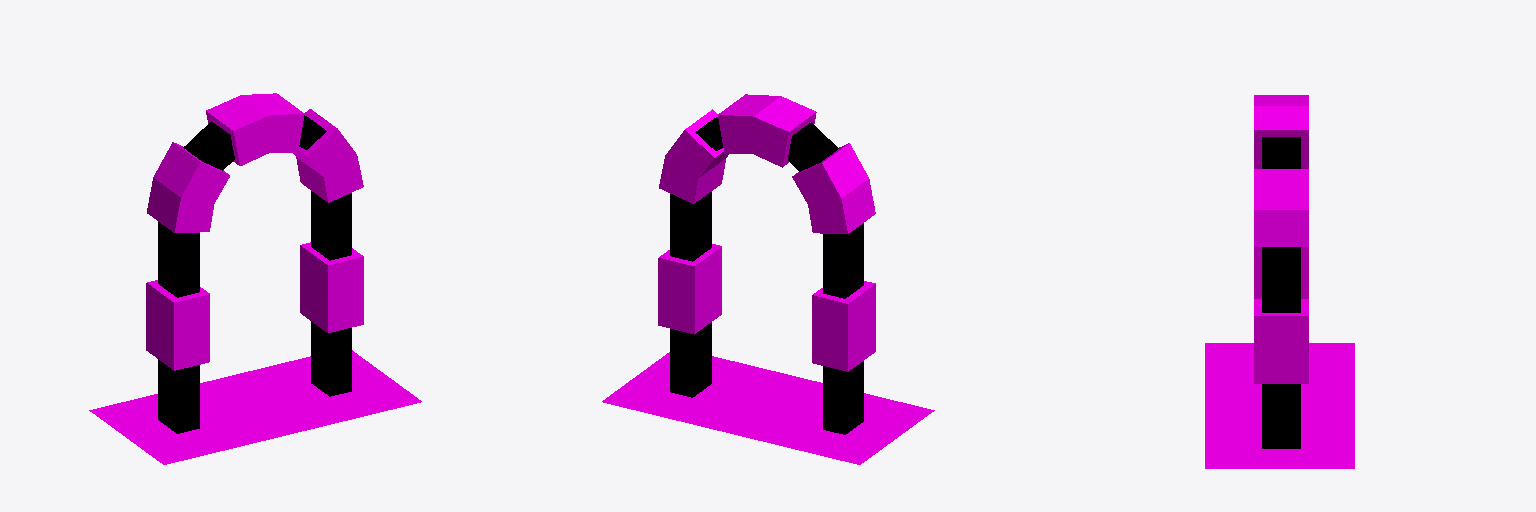
The model's file is portal4.obj.
3 views of the same model, side by side, from view 1: azimuth 30°, elevation 25°; view 2: azimuth 150°, elevation 25°; view 3: azimuth 270°, elevation 25° (orthographic).
Visible parts, largest first — view 1: Plane.001_Plane.003, Plane_Plane.002; view 2: Plane.001_Plane.003, Plane_Plane.002; view 3: Plane.001_Plane.003, Plane_Plane.002.
Part boxes in pixels (x1,y1,x2,y2): Plane.001_Plane.003: (89, 93, 421, 464); Plane_Plane.002: (158, 115, 351, 433); Plane.001_Plane.003: (602, 94, 934, 464); Plane_Plane.002: (670, 117, 863, 434); Plane.001_Plane.003: (1205, 95, 1354, 468); Plane_Plane.002: (1262, 137, 1300, 448).
Bounding box in the file's own units: 3.99 × 4.42 × 2.